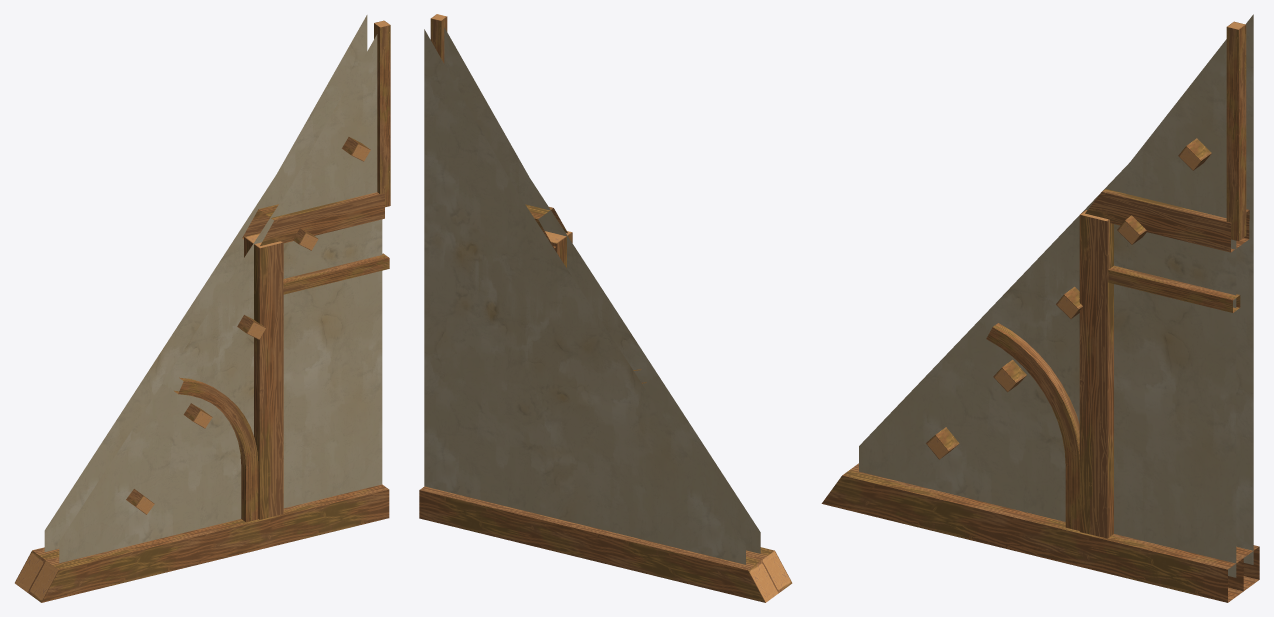
Rendered from Roof_Front_Brick6_Half_L.gltf.
The picture shows the model from 3 angles, left to right: view 1: azimuth 30°, elevation 25°; view 2: azimuth 150°, elevation 25°; view 3: azimuth 330°, elevation 25°; orthographic projection. The views are drawn at different scales.
Visible parts, largest first — view 1: Roof_Front_Brick6_Half_L; view 2: Roof_Front_Brick6_Half_L; view 3: Roof_Front_Brick6_Half_L.
Boxes of the visible parts, bbox=[...] form: Roof_Front_Brick6_Half_L: bbox=[15, 15, 390, 602]; Roof_Front_Brick6_Half_L: bbox=[419, 14, 792, 602]; Roof_Front_Brick6_Half_L: bbox=[821, 14, 1259, 602].
Bounding box in the file's own units: 3.41 × 4.52 × 0.4896.
2 materials, 2 textured.
